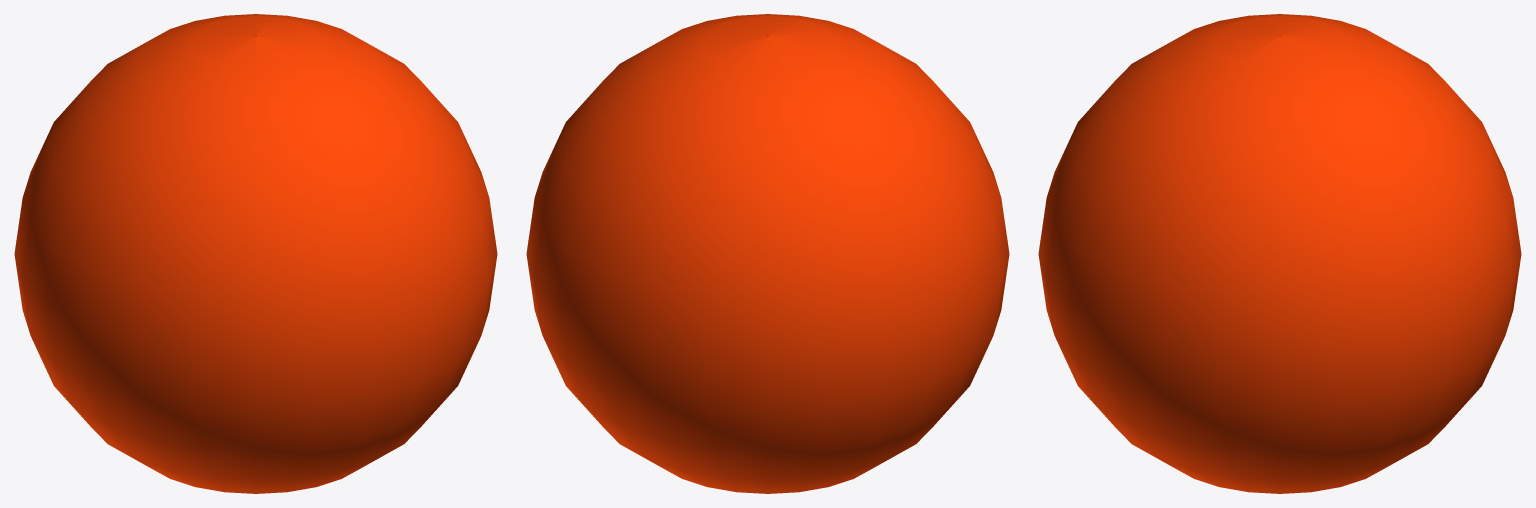
3 renders of one model, left to right at view 1: azimuth 30°, elevation 25°; view 2: azimuth 150°, elevation 25°; view 3: azimuth 270°, elevation 25°, orthographic.
Parts seen in each view (by area): view 1: SketchUp; view 2: SketchUp; view 3: SketchUp.
Boxes of the visible parts, x1,y1,x2,y2 form: SketchUp: (14, 14, 497, 493); SketchUp: (526, 14, 1009, 493); SketchUp: (1038, 14, 1521, 493).
Size of the model in its own units: 0.7193 by 0.7193 by 0.7162.
